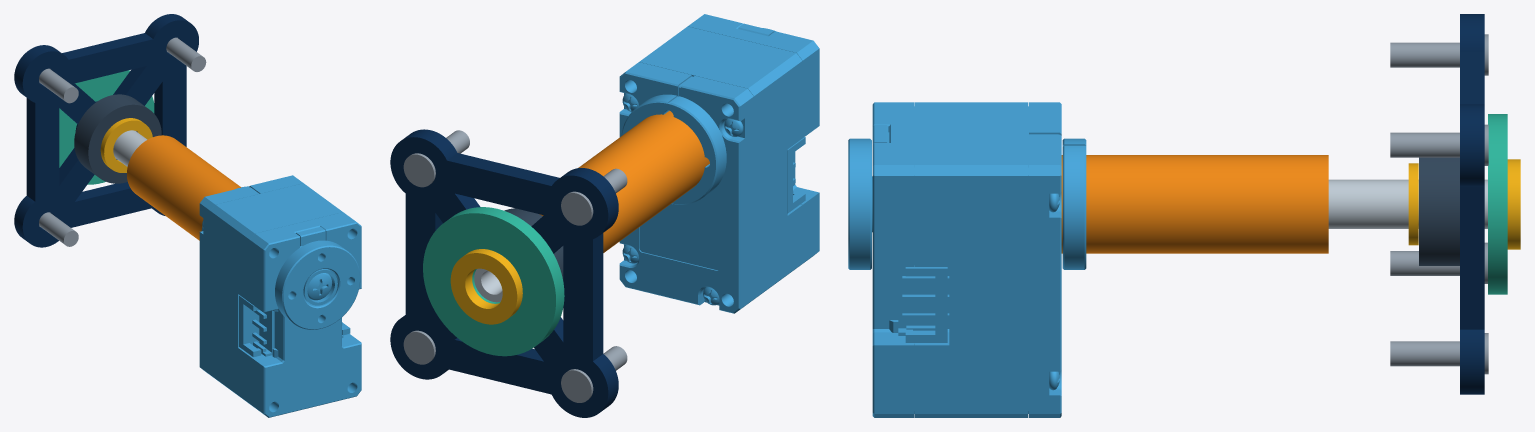
The model's file is JMF-01-COMPACT_assembly.glb.
The picture shows the model from 3 angles, left to right: view 1: azimuth 30°, elevation 25°; view 2: azimuth 150°, elevation 25°; view 3: azimuth 270°, elevation 25°; orthographic projection. The views are drawn at different scales.
Parts seen in each view (by area): view 1: ACTUATOR, CARRIER_B, OUTPUT_COUPLER, BEARING_B, OUTPUT_ENCODER_CARRIER, RETAINER_B, CARRIER_B_SCREW_22, CARRIER_B_SCREW_21, CARRIER_B_SCREW_12, OUTPUT_SHAFT; view 2: ACTUATOR, CARRIER_B, OUTPUT_ENCODER_CARRIER, OUTPUT_COUPLER, OUTPUT_MAGNET_HUB, CARRIER_B_SCREW_21, CARRIER_B_SCREW_12, CARRIER_B_SCREW_22, CARRIER_B_SCREW_11, OUTPUT_SHAFT, BEARING_B; view 3: ACTUATOR, OUTPUT_COUPLER, CARRIER_B, BEARING_B, OUTPUT_SHAFT, OUTPUT_ENCODER_CARRIER, CARRIER_B_SCREW_22, CARRIER_B_SCREW_11, CARRIER_B_SCREW_12, CARRIER_B_SCREW_21, OUTPUT_MAGNET_HUB, RETAINER_B.
Part boxes in pixels (x1,y1,x2,y2): ACTUATOR: (199,175,361,417); CARRIER_B: (14,14,198,247); OUTPUT_COUPLER: (127,135,240,240); BEARING_B: (74,94,161,183); OUTPUT_ENCODER_CARRIER: (59,70,154,184); RETAINER_B: (100,118,152,172); CARRIER_B_SCREW_22: (39,68,78,103); CARRIER_B_SCREW_21: (39,212,78,246); CARRIER_B_SCREW_12: (166,37,206,71); OUTPUT_SHAFT: (113,130,147,166); ACTUATOR: (619,14,819,313); CARRIER_B: (390,129,618,417); OUTPUT_ENCODER_CARRIER: (423,207,564,356); OUTPUT_COUPLER: (539,110,709,252); OUTPUT_MAGNET_HUB: (450,249,522,324); CARRIER_B_SCREW_21: (561,346,627,402); CARRIER_B_SCREW_12: (403,130,469,187); CARRIER_B_SCREW_22: (561,168,627,225); CARRIER_B_SCREW_11: (403,330,435,364); OUTPUT_SHAFT: (474,268,502,302); BEARING_B: (504,208,563,280); ACTUATOR: (848,102,1086,417); OUTPUT_COUPLER: (1061,155,1328,253); CARRIER_B: (1460,14,1484,394); BEARING_B: (1419,157,1459,265); OUTPUT_SHAFT: (1328,179,1487,228); OUTPUT_ENCODER_CARRIER: (1488,114,1507,294); CARRIER_B_SCREW_22: (1390,34,1488,75); CARRIER_B_SCREW_11: (1390,333,1488,374); CARRIER_B_SCREW_12: (1390,124,1488,165); CARRIER_B_SCREW_21: (1390,242,1487,283); OUTPUT_MAGNET_HUB: (1507,159,1520,249); RETAINER_B: (1408,163,1418,245).
Size of the model in its own units: 35.99 by 43.5 by 81.9.
